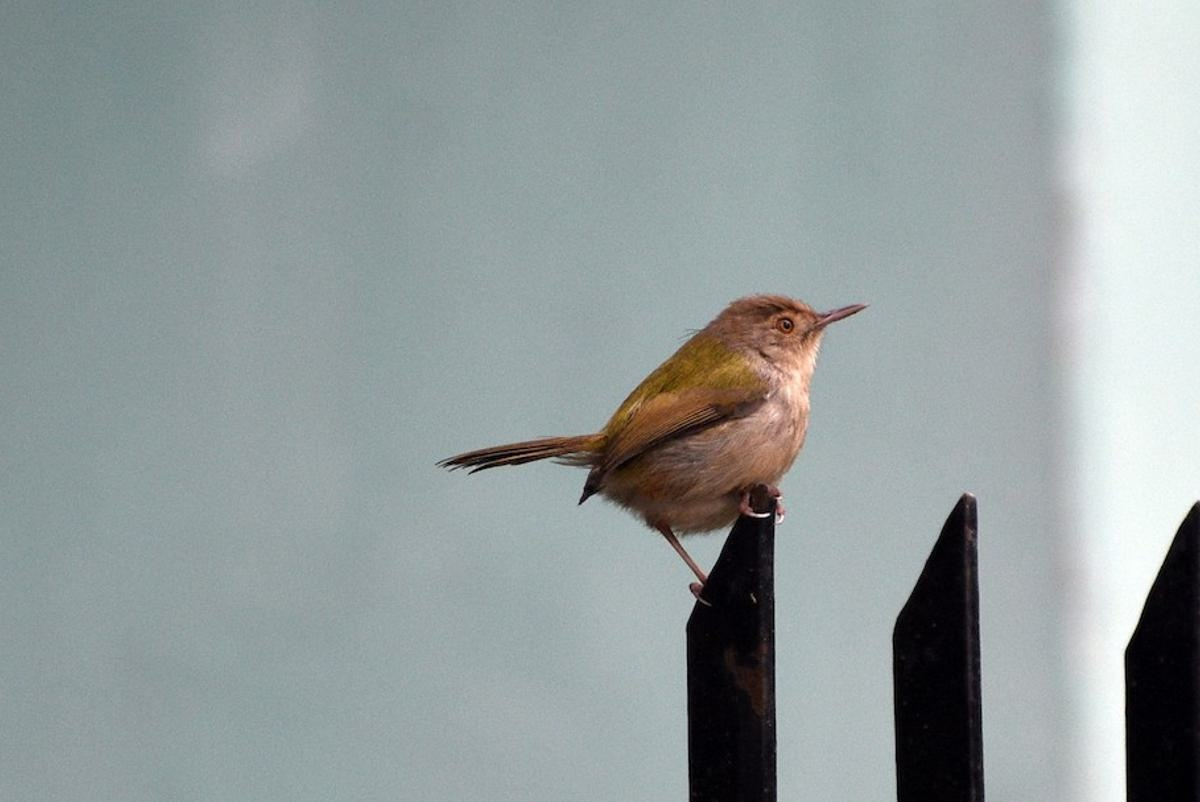tailorbird: (459, 278, 879, 523)
